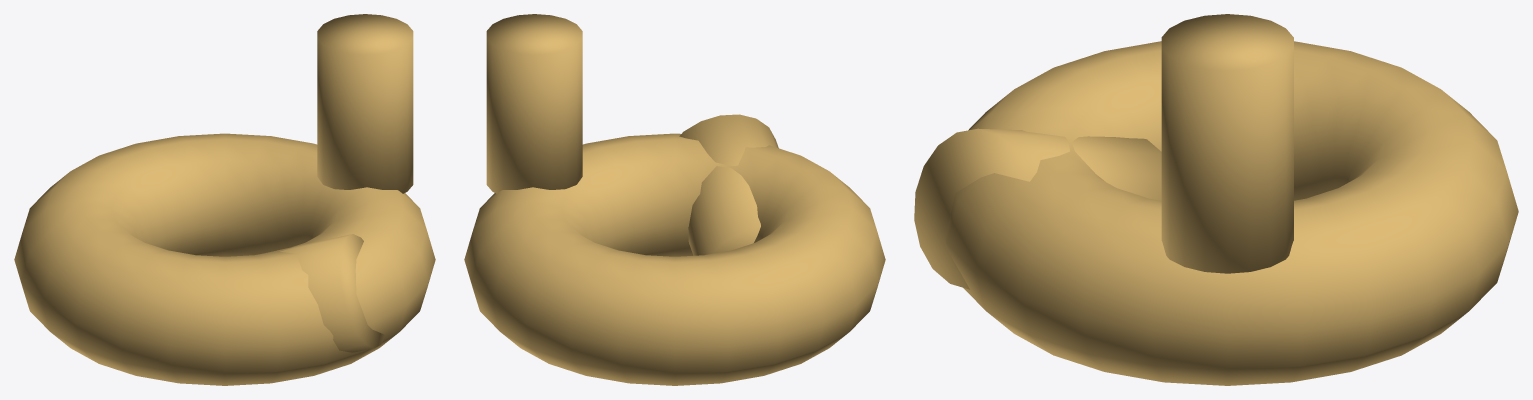
File: water_pump.glb
The picture shows the model from 3 angles, left to right: view 1: azimuth 30°, elevation 25°; view 2: azimuth 150°, elevation 25°; view 3: azimuth 270°, elevation 25°; orthographic projection. The views are drawn at different scales.
Visible parts, largest first — view 1: volute, outlet, inlet; view 2: volute, outlet, inlet; view 3: volute, outlet, inlet.
Boxes of the visible parts, x1,y1,x2,y2 form: volute: (14, 133, 435, 385); outlet: (317, 14, 413, 193); inlet: (263, 234, 385, 352); volute: (464, 133, 885, 385); outlet: (486, 14, 582, 193); inlet: (679, 114, 778, 255); volute: (945, 41, 1518, 385); outlet: (1161, 14, 1293, 273); inlet: (914, 128, 1161, 289).
Size of the model in its own units: 1.3 by 0.9024 by 1.35.
